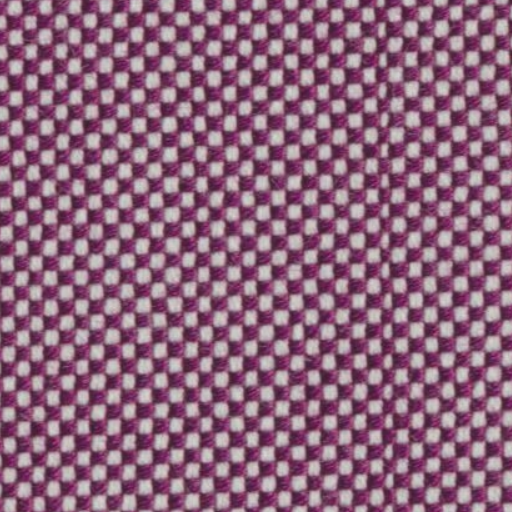TuoSha: (349, 15, 416, 492)
